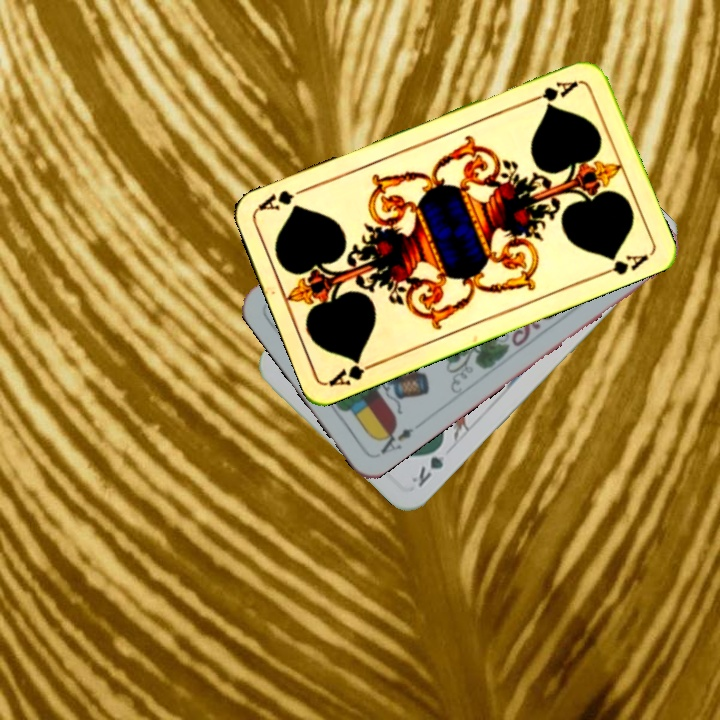EA: (372, 421, 416, 457)
GA: (326, 354, 383, 389), (526, 77, 583, 108)
GK: (407, 438, 447, 490)
